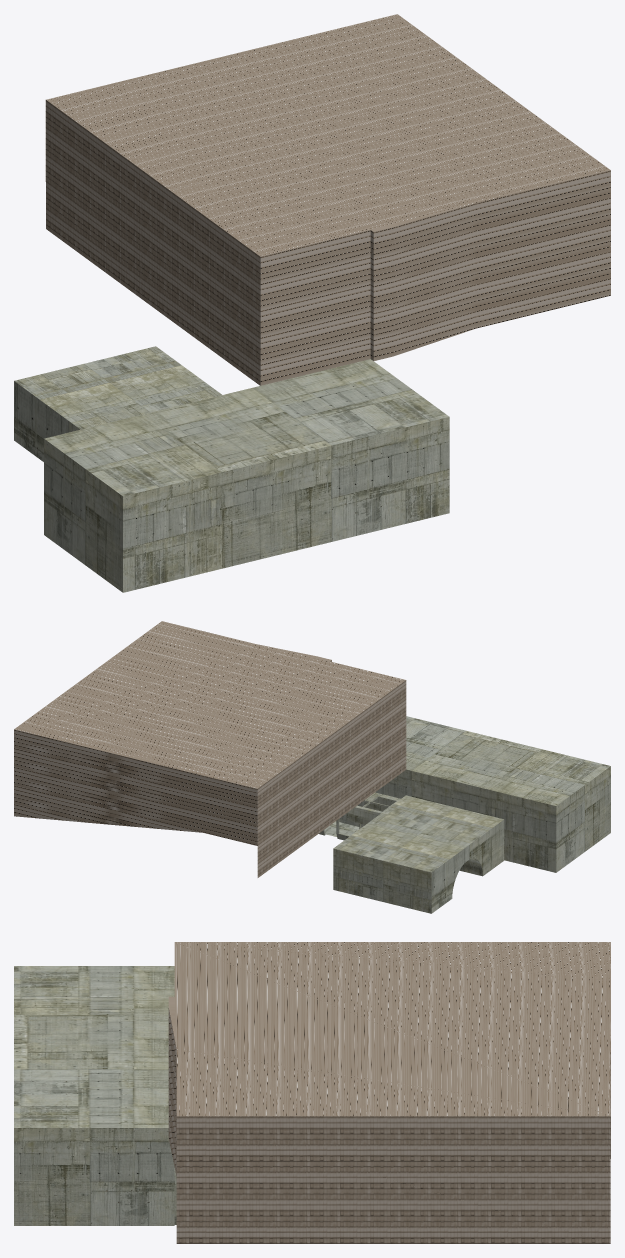
3 renders of one model, top to bottom at view 1: azimuth 30°, elevation 25°; view 2: azimuth 150°, elevation 25°; view 3: azimuth 270°, elevation 25°, orthographic. The views are drawn at different scales.
Visible parts, largest first — view 1: SM_HK_03_WireMesh_00.001, SM_HK_03_00; view 2: SM_HK_03_WireMesh_00.001, SM_HK_03_00; view 3: SM_HK_03_WireMesh_00.001, SM_HK_03_00.
Part boxes in pixels (left/top/right/bottom): SM_HK_03_WireMesh_00.001: left=45, top=14, right=610, bottom=385; SM_HK_03_00: left=14, top=346, right=449, bottom=592; SM_HK_03_WireMesh_00.001: left=14, top=621, right=406, bottom=877; SM_HK_03_00: left=319, top=716, right=610, bottom=913; SM_HK_03_WireMesh_00.001: left=168, top=942, right=610, bottom=1243; SM_HK_03_00: left=14, top=966, right=176, bottom=1225.
Bounding box in the file's own units: 7097 × 2699 × 6355.
